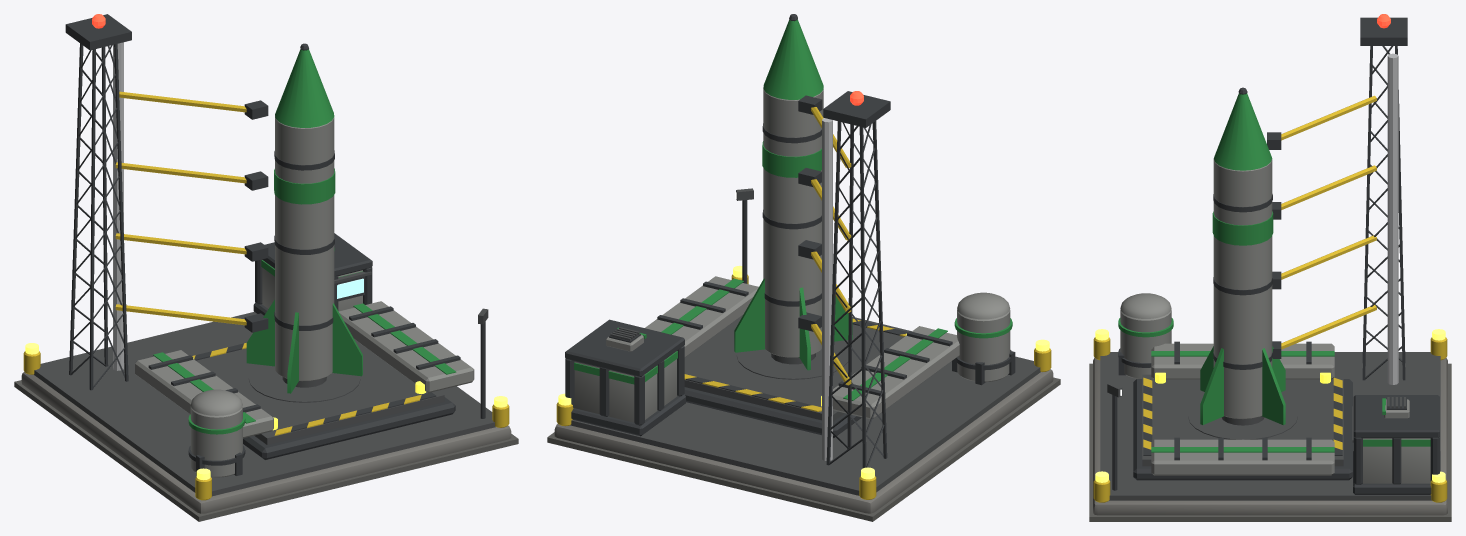
The model's file is silo.glb.
3 renders of one model, left to right at view 1: azimuth 30°, elevation 25°; view 2: azimuth 150°, elevation 25°; view 3: azimuth 270°, elevation 25°, orthographic. The views are drawn at different scales.
Visible parts, largest first — view 1: Silo_Foundation, Silo_Walls, Silo_Details, Silo_mis, Silo_Frame; view 2: Silo_Foundation, Silo_Walls, Silo_Details, Silo_mis, Silo_Frame; view 3: Silo_Foundation, Silo_Walls, Silo_mis, Silo_Details, Silo_Frame.
Part boxes in pixels (left/top/right/bottom): Silo_Foundation: left=14, top=311, right=518, bottom=521; Silo_Walls: left=135, top=260, right=474, bottom=477; Silo_Details: left=69, top=14, right=488, bottom=465; Silo_mis: left=246, top=43, right=362, bottom=393; Silo_Frame: left=65, top=14, right=455, bottom=475; Silo_Foundation: left=547, top=265, right=1060, bottom=521; Silo_Walls: left=574, top=276, right=1010, bottom=422; Silo_Details: left=606, top=91, right=1012, bottom=468; Silo_mis: left=734, top=14, right=852, bottom=370; Silo_Frame: left=565, top=91, right=1015, bottom=437; Silo_Foundation: left=1089, top=329, right=1451, bottom=521; Silo_Walls: left=1120, top=293, right=1430, bottom=483; Silo_mis: left=1200, top=87, right=1285, bottom=425; Silo_Details: left=1107, top=14, right=1409, bottom=490; Silo_Frame: left=1118, top=17, right=1440, bottom=494.
Bounding box in the file's own units: 1.98 × 2.28 × 1.98.
